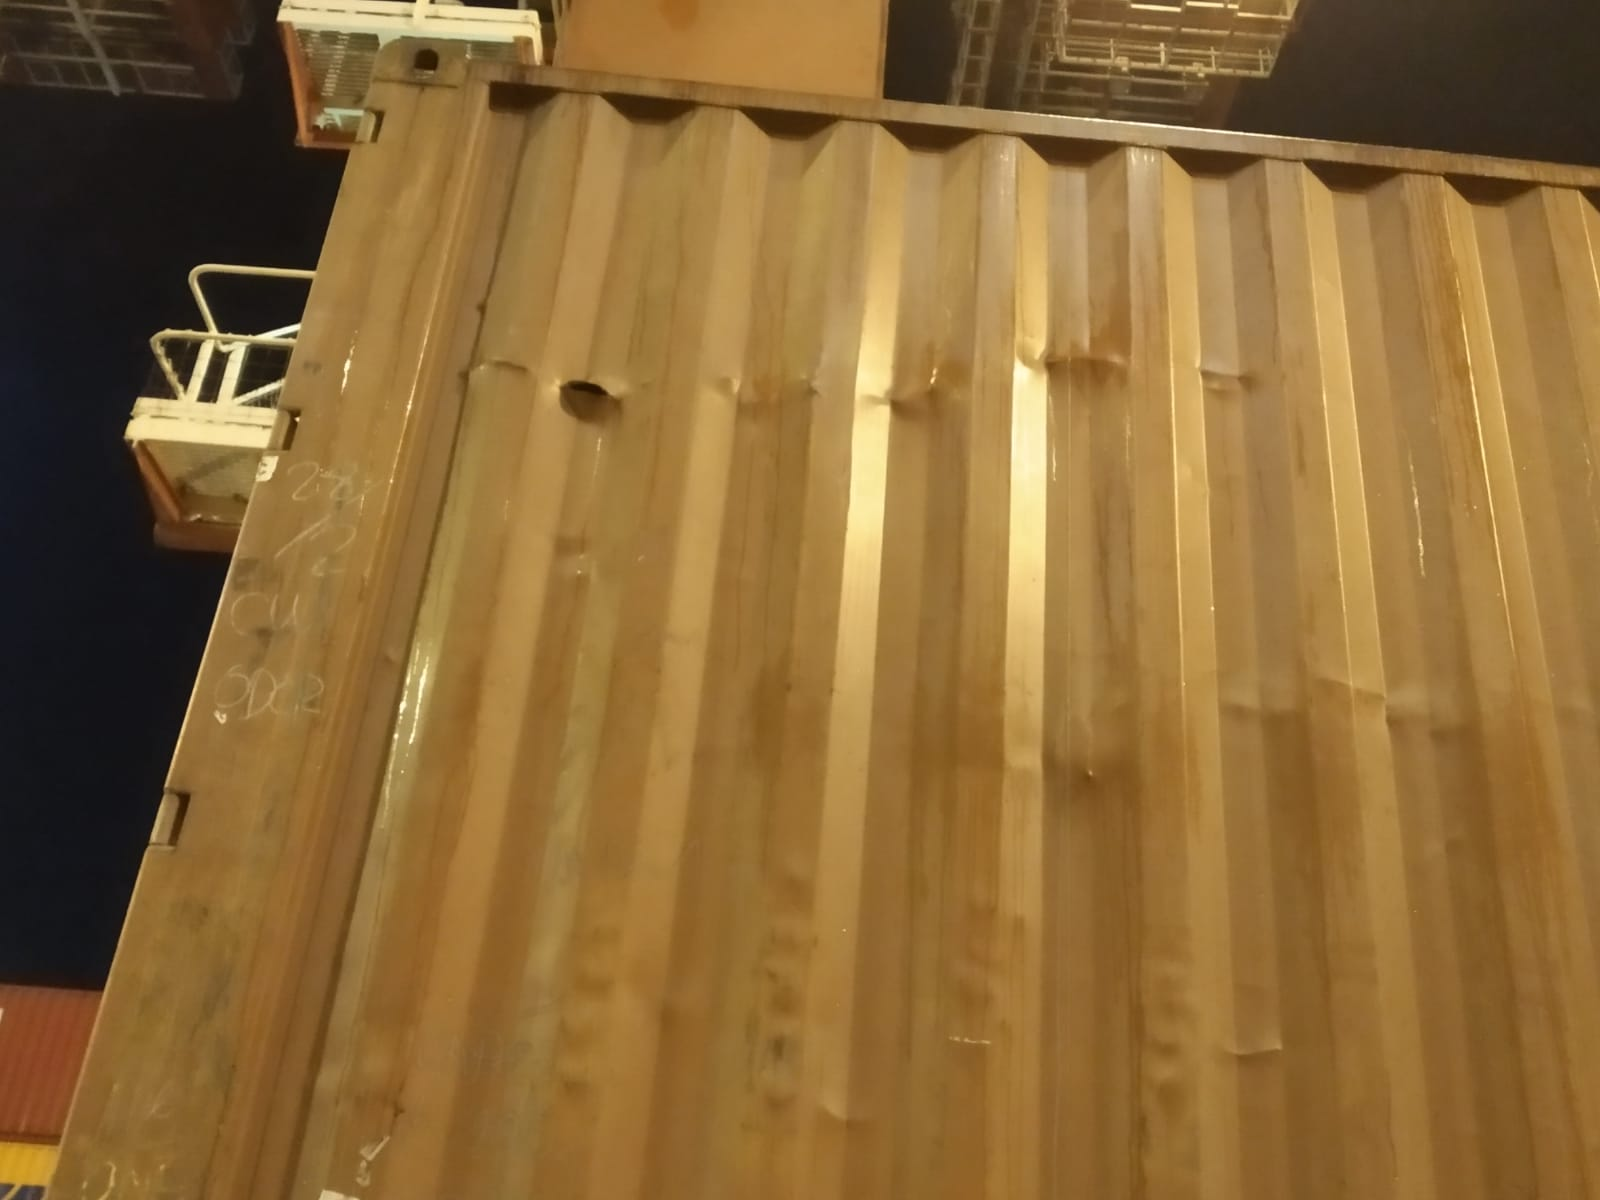bulged: (961, 642, 1405, 816)
cut: (488, 350, 664, 429)
dented: (787, 330, 1359, 495)
